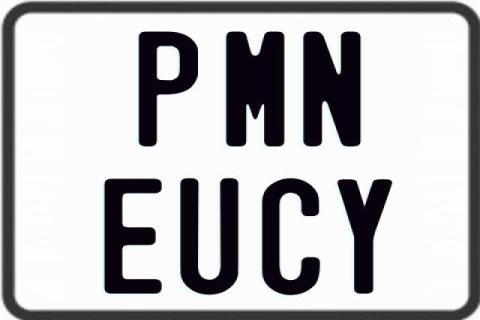C: (259, 176, 317, 293)
E: (101, 176, 161, 292)
M: (226, 31, 287, 150)
N: (302, 29, 364, 149)
P: (139, 31, 200, 150)
U: (178, 177, 236, 293)
Y: (338, 177, 394, 297)
